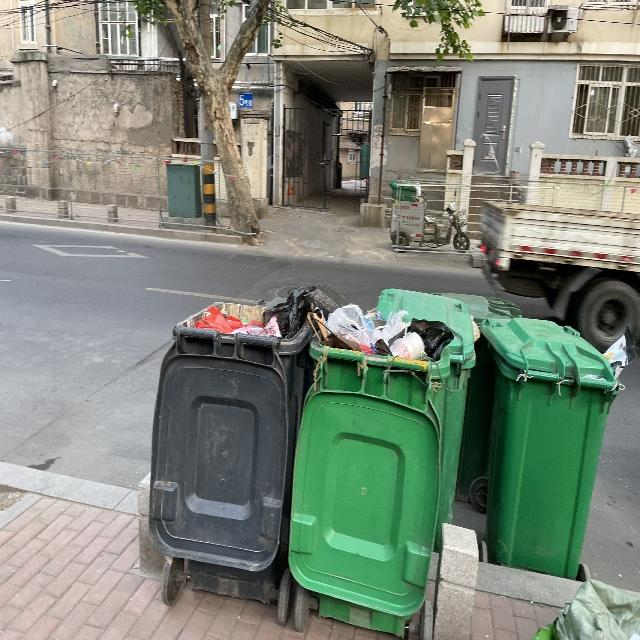overflow: (288, 300, 450, 638), (150, 290, 314, 603), (482, 315, 627, 581)
